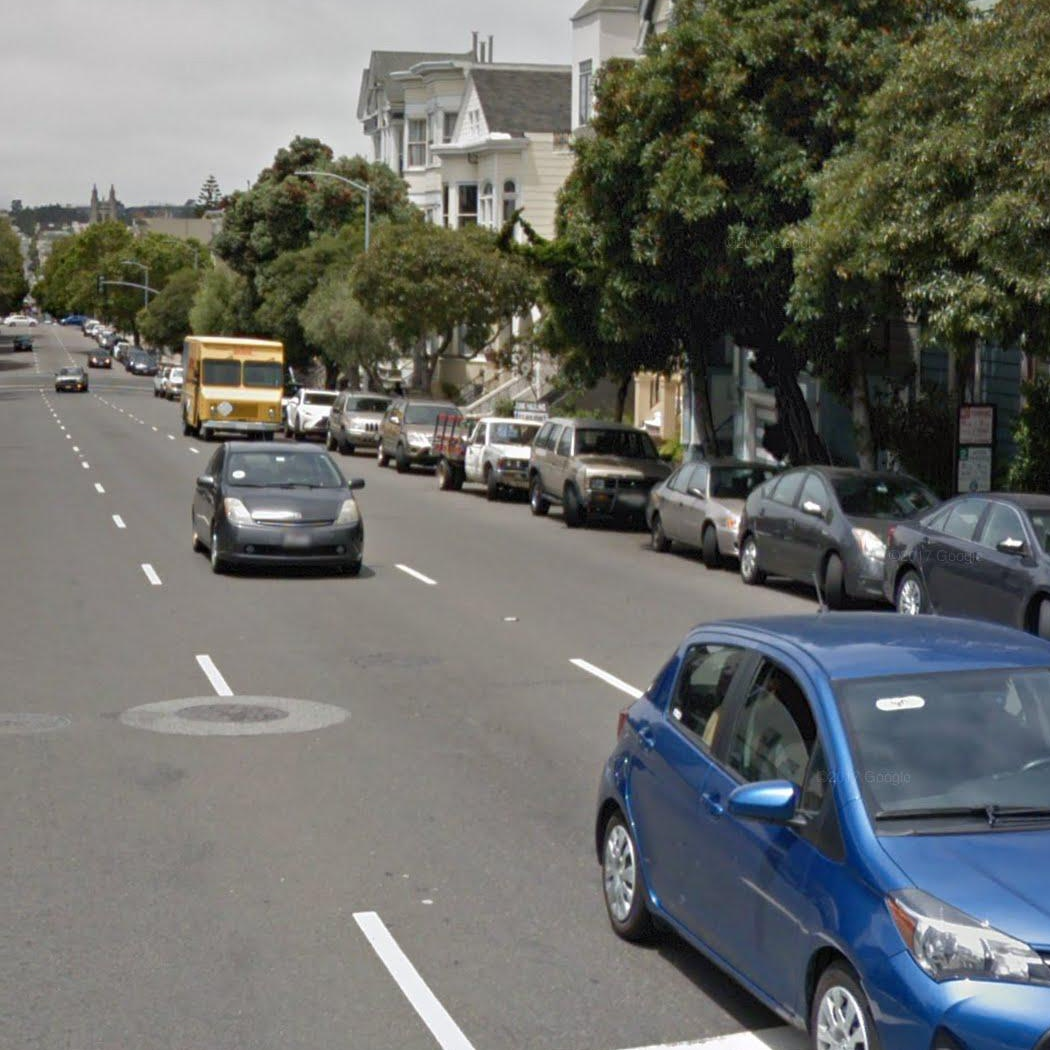2 Hour Parking: (954, 445, 993, 494)
No Parking: (957, 404, 996, 445)
